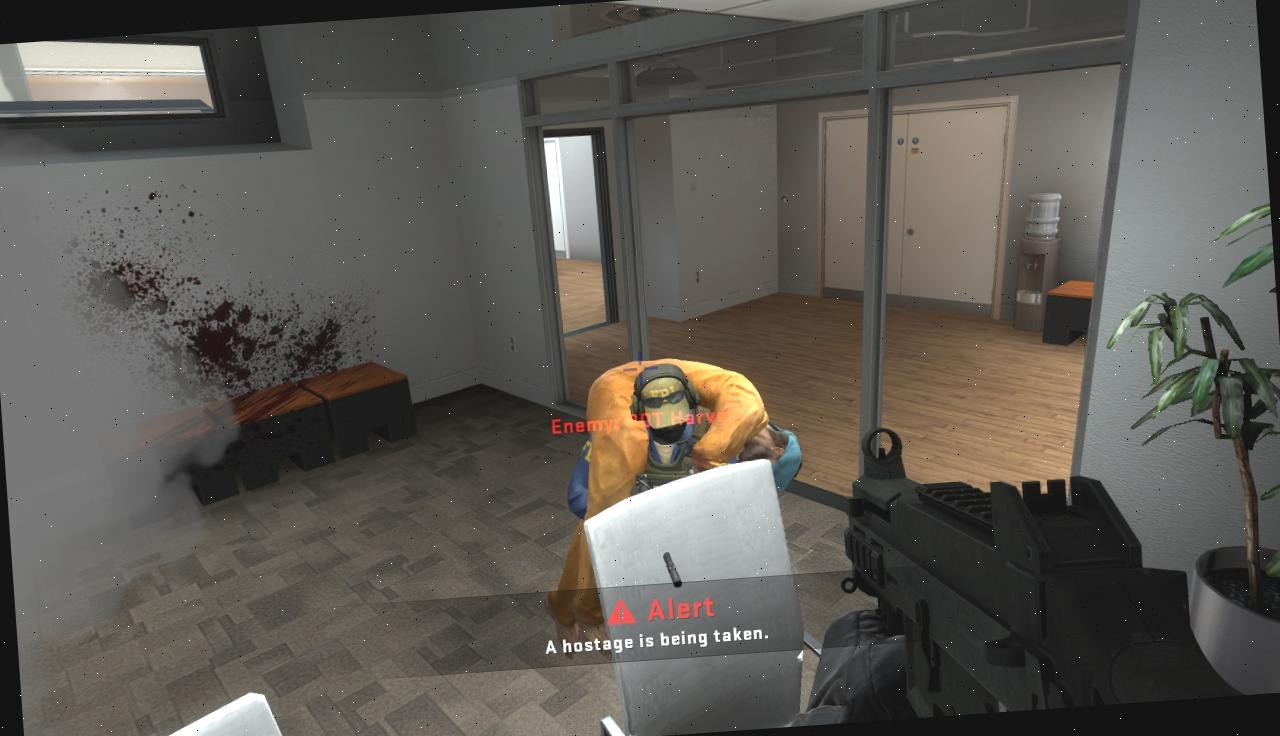ct: (632, 366, 700, 436)
rifle: (819, 396, 1242, 722)
